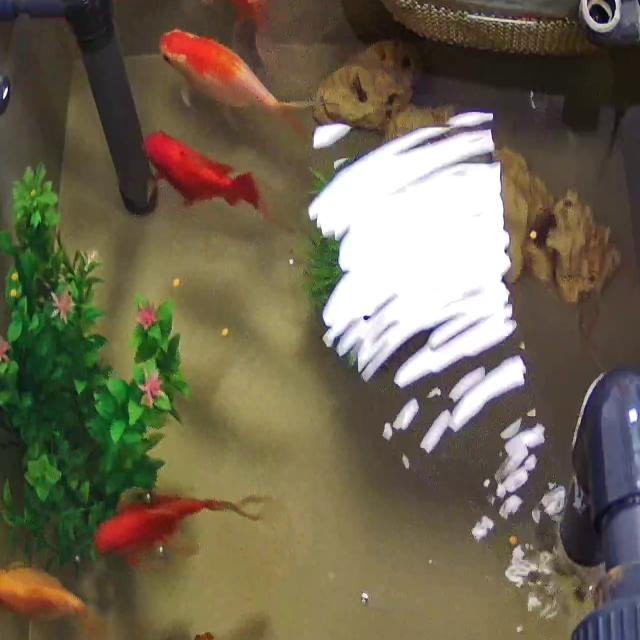fish: (70, 476, 287, 569), (159, 30, 308, 148), (142, 130, 269, 220), (0, 538, 108, 640), (199, 0, 278, 33)
